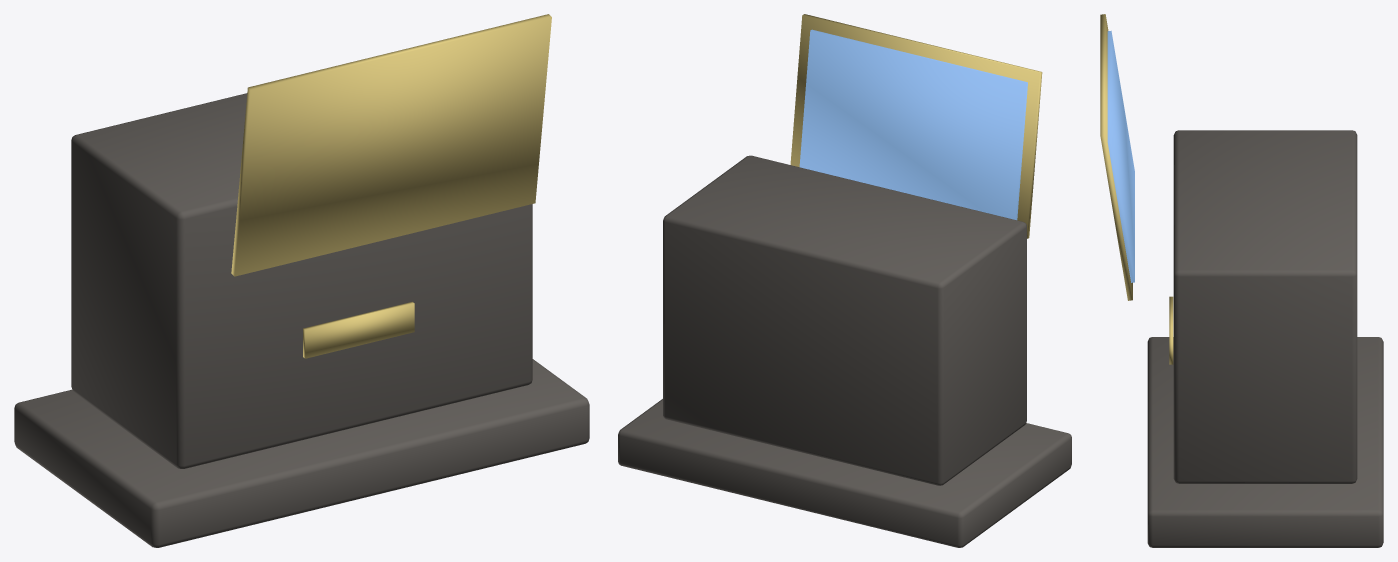
Rendered from museum_kiosk.glb.
3 views of the same model, side by side, from view 1: azimuth 30°, elevation 25°; view 2: azimuth 150°, elevation 25°; view 3: azimuth 270°, elevation 25° (orthographic). The views are drawn at different scales.
Visible parts, largest first — view 1: MuseumKiosk; view 2: MuseumKiosk; view 3: MuseumKiosk.
Boxes of the visible parts, box(x1,y1,x2,y2) form: MuseumKiosk: box(14, 14, 589, 547); MuseumKiosk: box(618, 14, 1071, 547); MuseumKiosk: box(1100, 14, 1383, 547).
Bounding box in the file's own units: 1.6 × 1.63 × 1.08.
